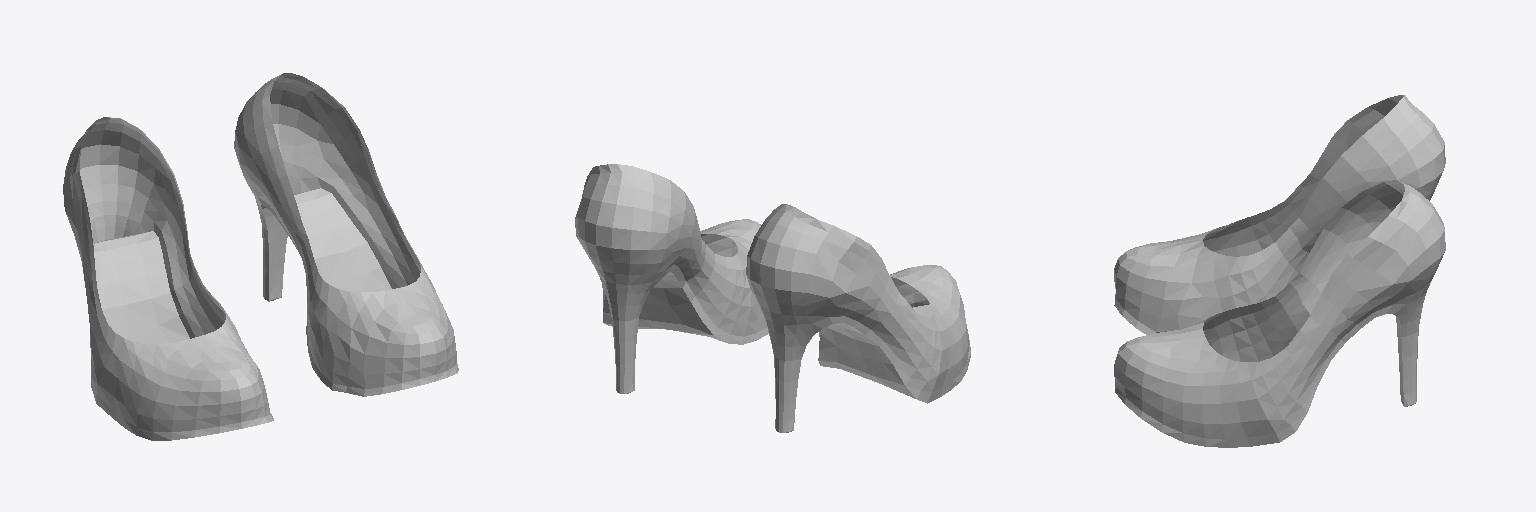
File: womanShoe7.obj
3 views of the same model, side by side, from view 1: azimuth 30°, elevation 25°; view 2: azimuth 150°, elevation 25°; view 3: azimuth 270°, elevation 25° (orthographic).
Visible parts, largest first — view 1: High-Heels; view 2: High-Heels; view 3: High-Heels.
Boxes of the visible parts, x1=… form: High-Heels: x1=63, y1=73, x2=458, y2=440; High-Heels: x1=575, y1=164, x2=970, y2=432; High-Heels: x1=1114, y1=95, x2=1445, y2=447.
Bounding box in the file's own units: 26.53 × 17.81 × 23.14.